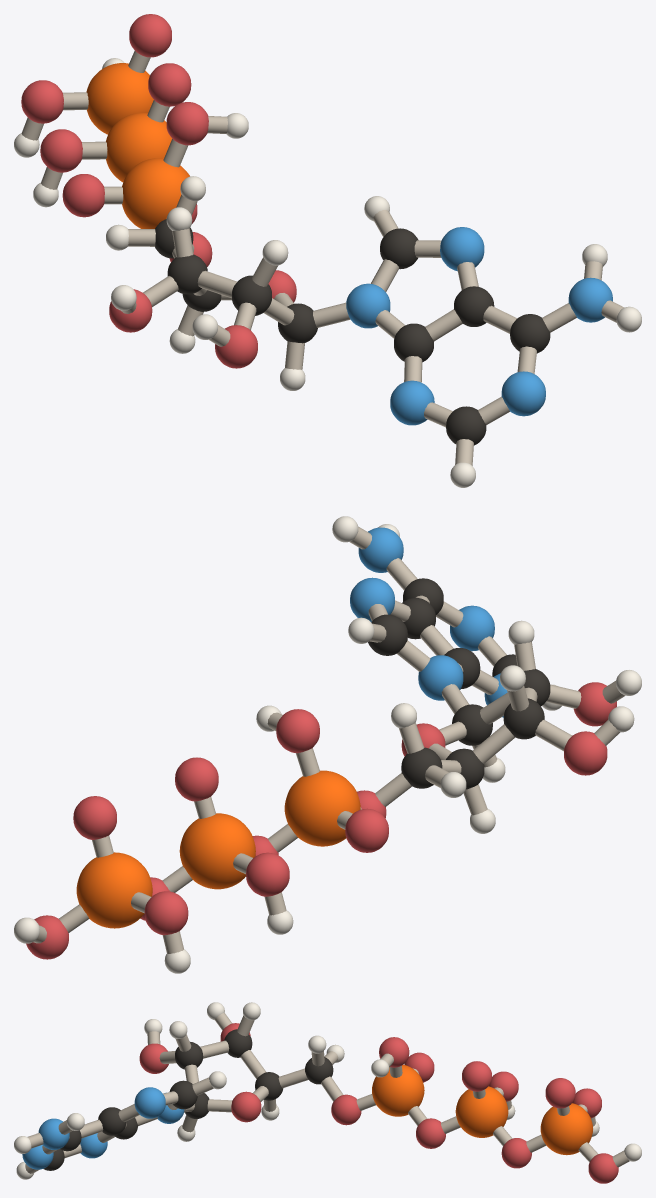
Rendered from atp-cellular-energy.glb.
The picture shows the model from 3 angles, top to bottom: view 1: azimuth 30°, elevation 25°; view 2: azimuth 150°, elevation 25°; view 3: azimuth 270°, elevation 25°; orthographic projection. The views are drawn at different scales.
Visible parts, largest first — view 1: function-focus-P-8, function-focus-P-0, function-focus-P-4, real-atom-N-27, real-atom-O-5, real-atom-O-1, real-atom-O-10, real-atom-O-6, real-atom-O-3, real-atom-O-9, real-atom-N-29, real-atom-N-23 (+12 smaller); view 2: function-focus-P-0, function-focus-P-4, function-focus-P-8, real-atom-O-3, real-atom-O-9, real-atom-O-5, real-atom-O-6, real-atom-O-10, real-atom-O-1, real-atom-O-17, real-atom-N-21, real-atom-N-26 (+13 smaller); view 3: function-focus-P-0, function-focus-P-4, function-focus-P-8, real-atom-N-23, real-atom-O-1, real-atom-O-5, real-atom-O-15, real-atom-O-2, real-atom-O-12, real-atom-O-7, real-atom-O-11, real-atom-N-26 (+24 smaller).
Part boxes in pixels (left/top/right/bottom): function-focus-P-8: left=122, top=158, right=189, bottom=228; function-focus-P-0: left=86, top=63, right=153, bottom=134; function-focus-P-4: left=106, top=113, right=172, bottom=182; real-atom-N-27: left=501, top=371, right=545, bottom=416; real-atom-O-5: left=148, top=63, right=191, bottom=106; real-atom-O-1: left=129, top=14, right=171, bottom=57; real-atom-O-10: left=166, top=102, right=208, bottom=145; real-atom-O-6: left=40, top=129, right=82, bottom=172; real-atom-O-3: left=21, top=80, right=63, bottom=123; real-atom-O-9: left=62, top=174, right=104, bottom=217; real-atom-N-29: left=390, top=380, right=434, bottom=425; real-atom-N-23: left=440, top=227, right=484, bottom=271; function-focus-P-0: left=76, top=852, right=152, bottom=928; function-focus-P-4: left=179, top=813, right=255, bottom=889; function-focus-P-8: left=284, top=770, right=360, bottom=846; real-atom-O-3: left=144, top=891, right=188, bottom=935; real-atom-O-9: left=345, top=808, right=388, bottom=852; real-atom-O-5: left=175, top=757, right=218, bottom=801; real-atom-O-6: left=246, top=852, right=289, bottom=896; real-atom-O-10: left=276, top=709, right=319, bottom=753; real-atom-O-1: left=73, top=796, right=116, bottom=839; real-atom-O-17: left=564, top=731, right=607, bottom=775; real-atom-N-21: left=418, top=655, right=463, bottom=700; real-atom-N-26: left=358, top=527, right=403, bottom=572; function-focus-P-0: left=540, top=1103, right=592, bottom=1155; function-focus-P-4: left=455, top=1086, right=508, bottom=1137; function-focus-P-8: left=372, top=1064, right=424, bottom=1116; real-atom-N-23: left=134, top=1087, right=165, bottom=1118; real-atom-O-1: left=545, top=1078, right=575, bottom=1108; real-atom-O-5: left=462, top=1061, right=491, bottom=1091; real-atom-O-15: left=231, top=1091, right=261, bottom=1122; real-atom-O-2: left=588, top=1153, right=618, bottom=1183; real-atom-O-12: left=331, top=1094, right=361, bottom=1125; real-atom-O-7: left=501, top=1138, right=531, bottom=1168; real-atom-O-11: left=416, top=1118, right=445, bottom=1148; real-atom-N-26: left=38, top=1118, right=69, bottom=1149.
Size of what is drawn, in the model's own units: 1.33 by 0.6276 by 2.62.
